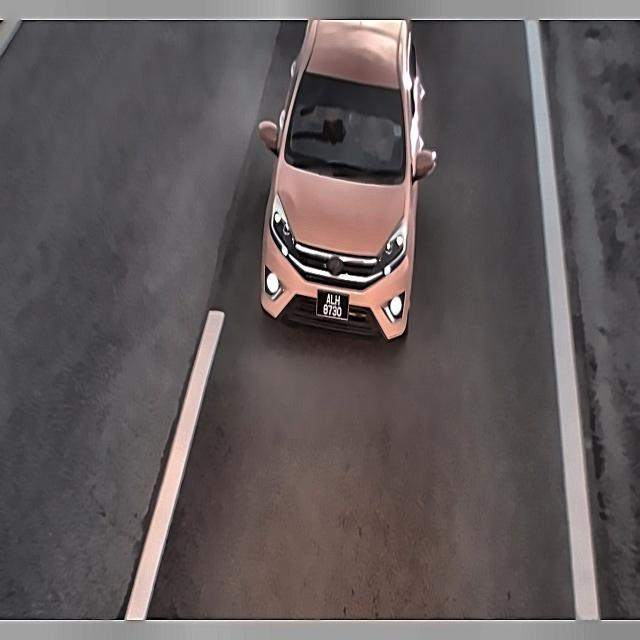car: (315, 286, 354, 325)
